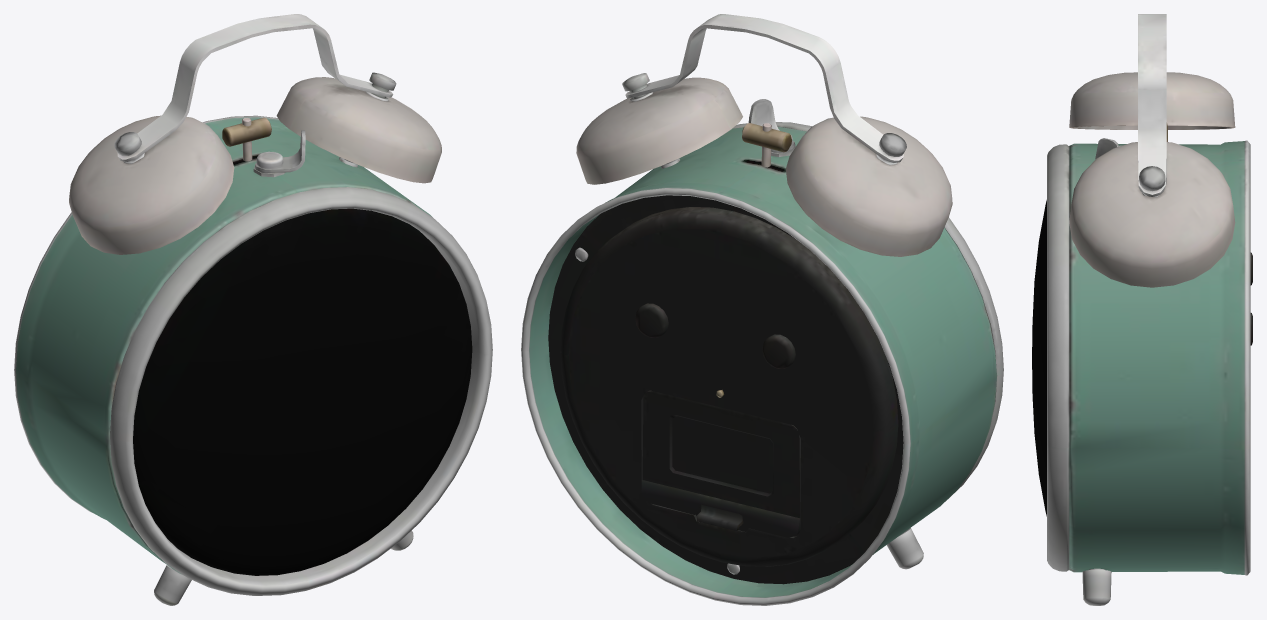
Rendered from alarm_clock_01.glb.
The picture shows the model from 3 angles, left to right: view 1: azimuth 30°, elevation 25°; view 2: azimuth 150°, elevation 25°; view 3: azimuth 270°, elevation 25°; orthographic projection. The views are drawn at different scales.
Visible parts, largest first — view 1: alarm_clock_01; view 2: alarm_clock_01; view 3: alarm_clock_01.
Part boxes in pixels (bbox=[...]): alarm_clock_01: bbox=[14, 14, 492, 605]; alarm_clock_01: bbox=[521, 14, 1003, 605]; alarm_clock_01: bbox=[1032, 14, 1252, 605].
Bounding box in the file's own units: 0.1316 × 0.1741 × 0.0667.
Materials: 2 (2 with a texture image).
